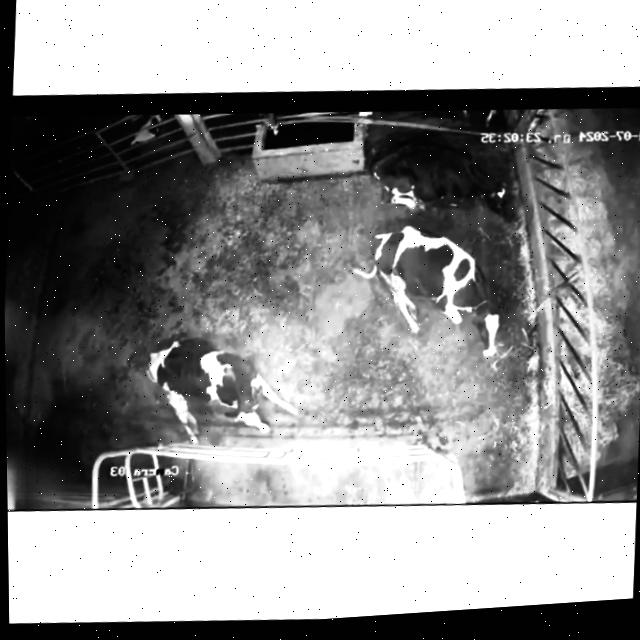lay: (336, 213, 536, 380), (117, 310, 315, 459), (358, 125, 532, 234)
